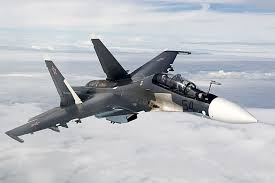maybay_muctieu: (22, 45, 262, 138)
